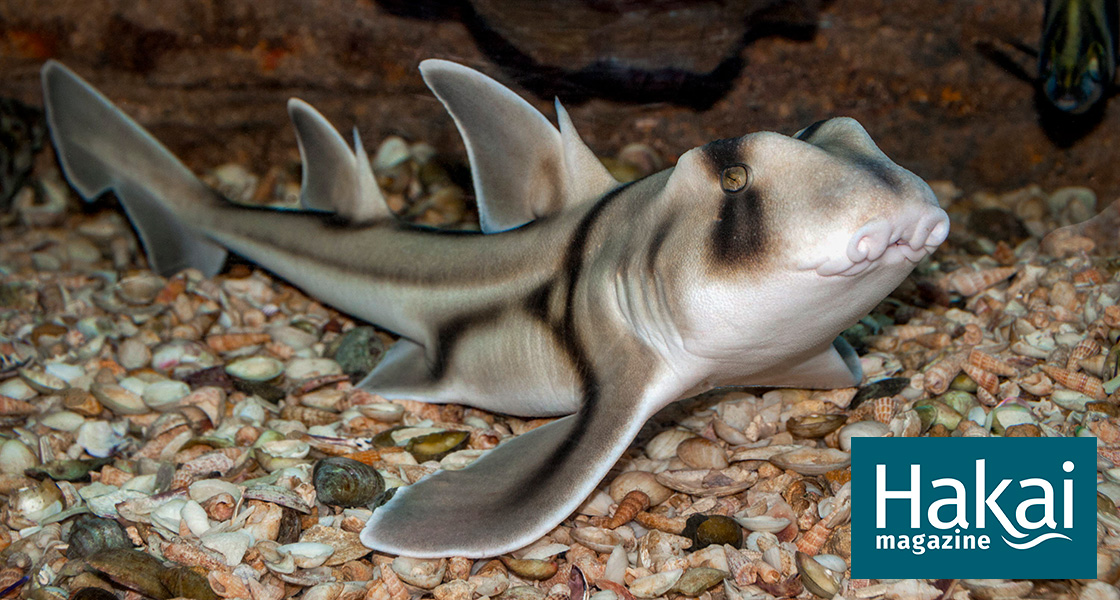shark: (33, 40, 962, 547)
